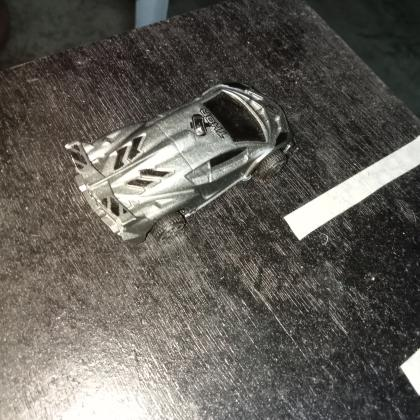Car: (61, 80, 293, 246)
